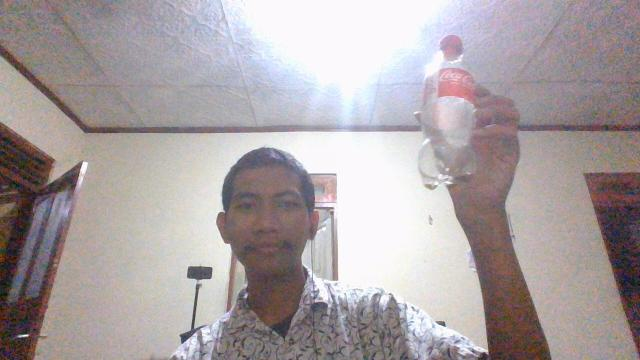coca-cola: (416, 33, 480, 189)
